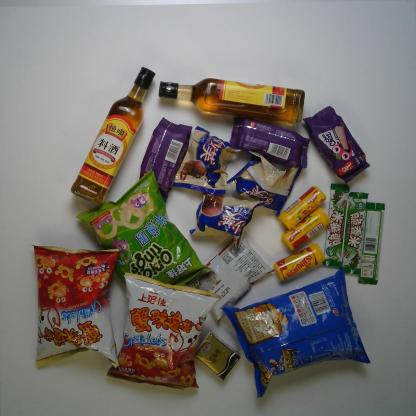Candy: (270, 240, 326, 286), (279, 205, 332, 253), (276, 184, 329, 231)
Chocolate: (356, 198, 387, 287), (339, 190, 370, 277), (322, 181, 350, 270)
Dessert: (301, 103, 372, 185), (222, 149, 304, 219), (172, 122, 243, 197), (138, 115, 193, 207), (187, 190, 266, 252), (228, 113, 312, 169)
Puffed Food: (218, 267, 375, 399), (73, 167, 213, 291), (102, 268, 222, 393), (28, 241, 126, 371)
Seasoner: (68, 63, 158, 209), (180, 232, 277, 326), (155, 74, 309, 127)
Tissue: (191, 327, 245, 384)
